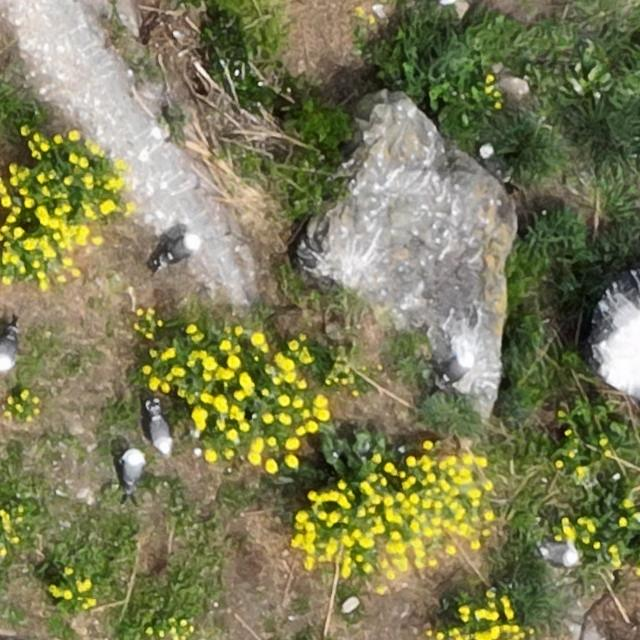umineko: (150, 413, 173, 456), (539, 542, 578, 565), (164, 233, 195, 261), (122, 451, 144, 489), (0, 332, 15, 371), (480, 147, 500, 176)
